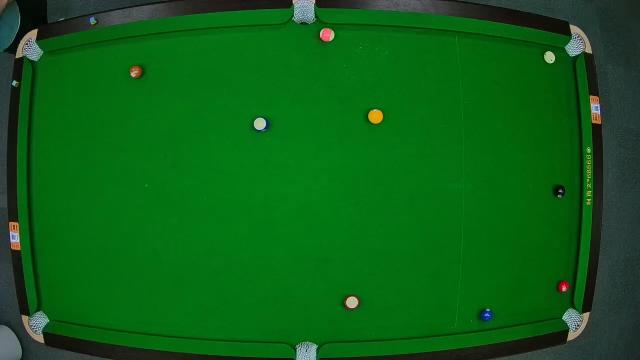bag1: (20, 40, 40, 60)
bag2: (292, 0, 316, 26)
bag3: (566, 35, 588, 56)
bag4: (28, 312, 50, 332)
bag5: (294, 340, 318, 360)
bag6: (562, 310, 582, 330)
ball0: (544, 51, 556, 65)
ball1: (368, 108, 384, 124)
ball10: (252, 117, 268, 134)
ball11: (342, 294, 360, 310)
ball12: (318, 28, 336, 42)
ball2: (478, 308, 494, 322)
ball3: (557, 280, 571, 294)
ball7: (129, 64, 143, 80)
ball8: (552, 185, 566, 199)
